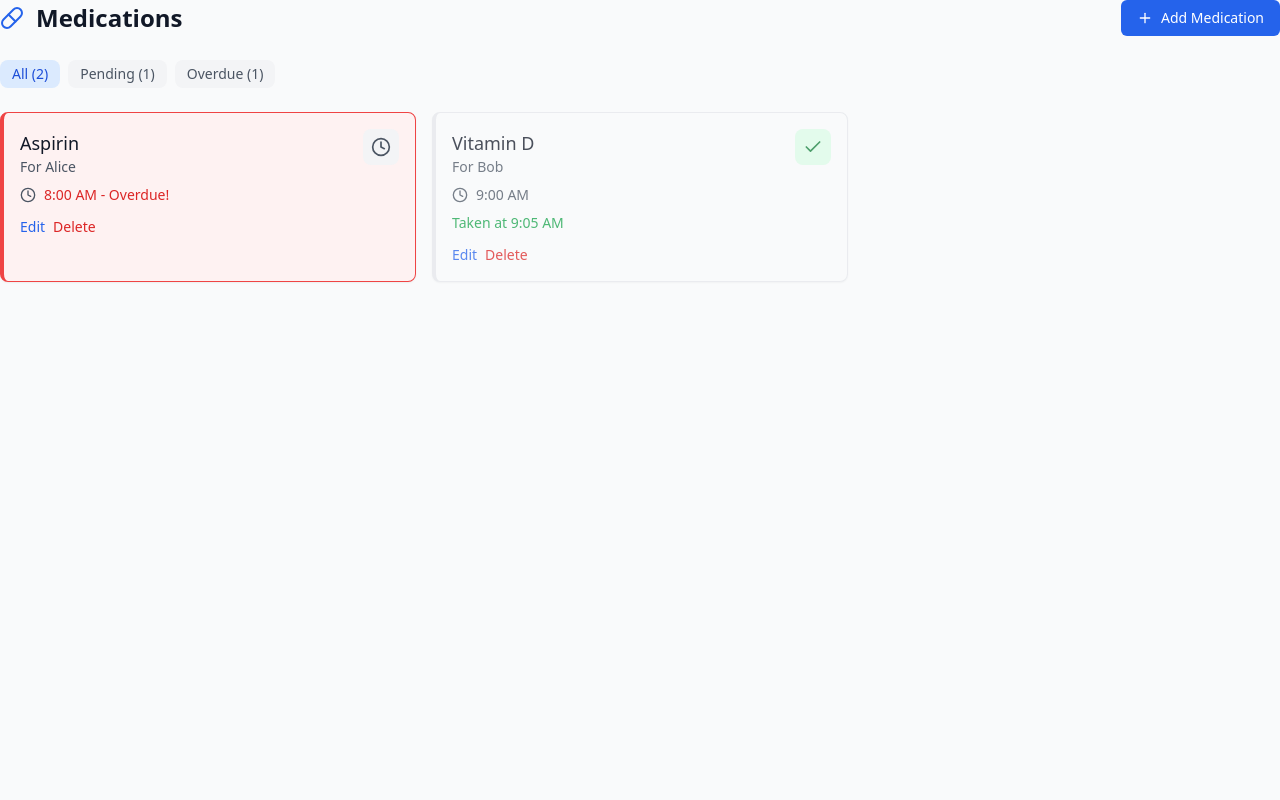
Test: MedicationTracker › cancels delete dialog
The width and height of the screenshot is (1280, 800).
What coordinates should you click on to do the following:
click the button "Delete" below "8:00 AM"
I would click on:
 (74, 227)
Its box is [53,217,96,237].
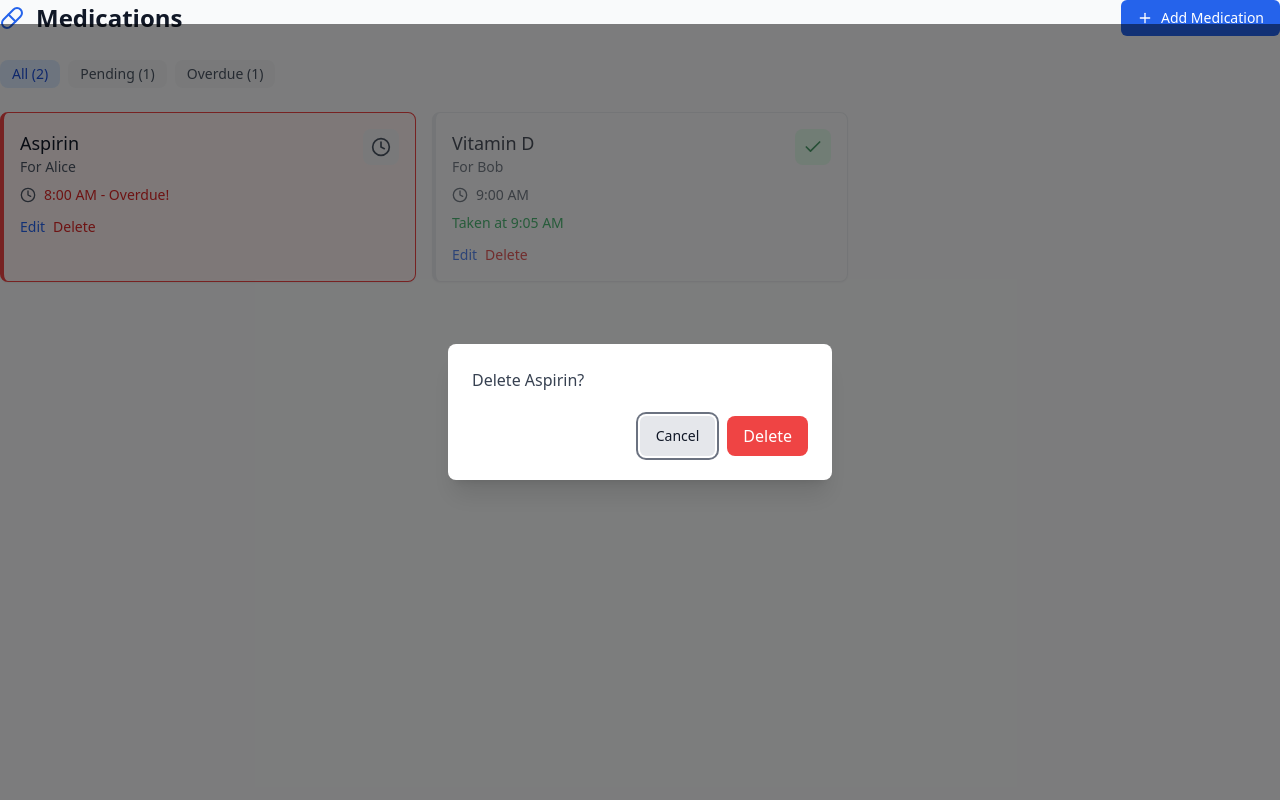
What coordinates should you click on to do the following:
click the button "Cancel"
I would click on:
 (678, 436)
Its box is [640,416,715,456].
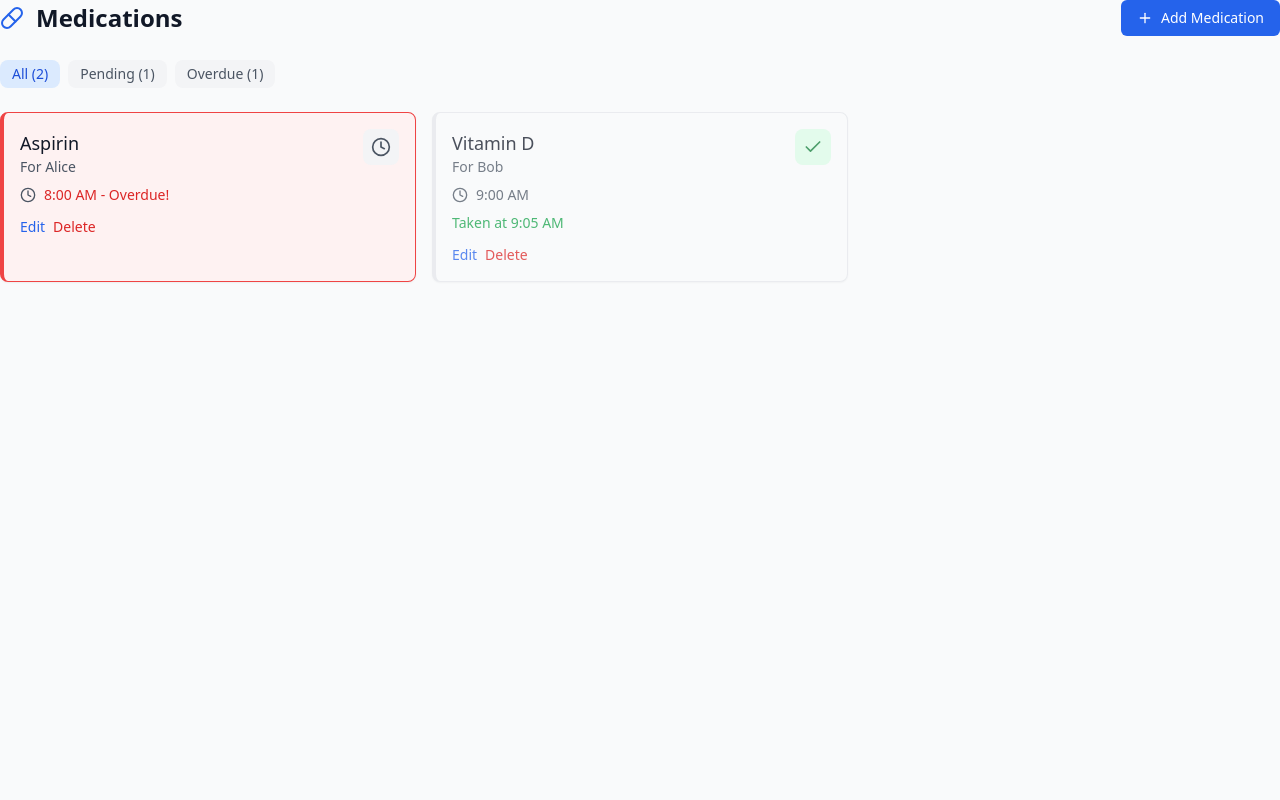
Result: the dialog is gone
